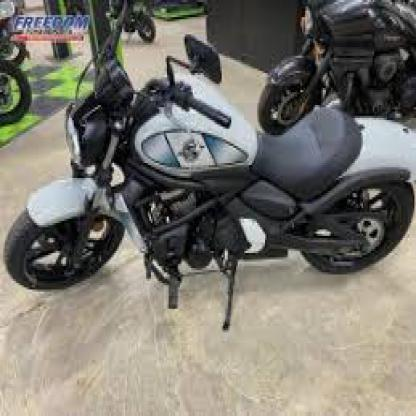Motorcycle: (4, 28, 415, 319)
